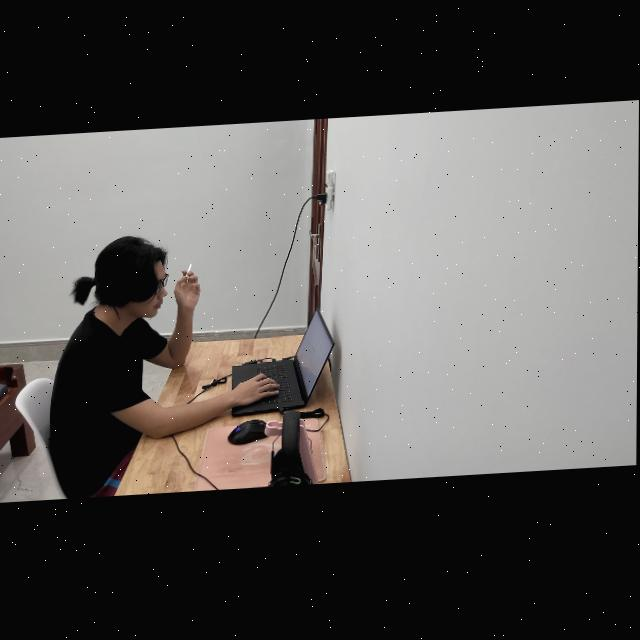cigarette: (186, 265, 193, 281)
